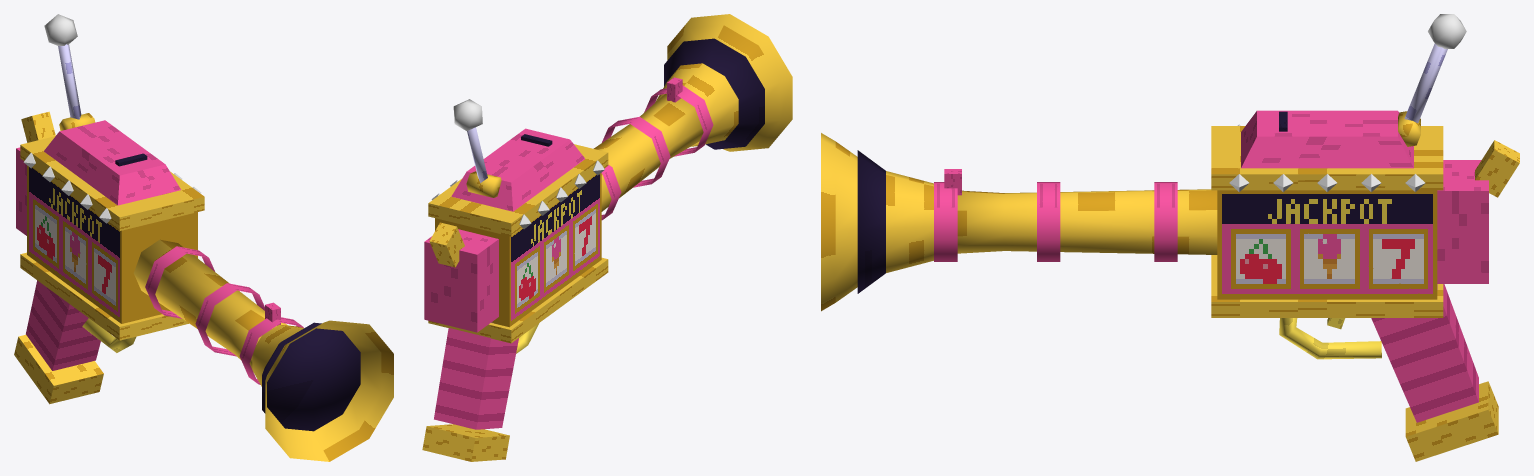
File: Jackpot Blaster.fbx
3 renders of one model, left to right at view 1: azimuth 30°, elevation 25°; view 2: azimuth 150°, elevation 25°; view 3: azimuth 270°, elevation 25°, orthographic. The views are drawn at different scales.
Parts seen in each view (by area): view 1: Jackpot Blaster body, Jackpot Blaster bell, Jackpot Blaster bell dark, Jackpot Blaster top dome, Jackpot Blaster barrel, Jackpot Blaster trim 0.068, Jackpot Blaster grip, Jackpot Blaster grip cap, Jackpot Blaster trim -0.028, Jackpot Blaster barrel ring -0.17, Jackpot Blaster barrel ring -0.09, Jackpot Blaster barrel ring -0.24 (+5 smaller); view 2: Jackpot Blaster body, Jackpot Blaster bell, Jackpot Blaster grip, Jackpot Blaster rear block, Jackpot Blaster top dome, Jackpot Blaster barrel, Jackpot Blaster bell dark, Jackpot Blaster trim 0.068, Jackpot Blaster grip cap, Jackpot Blaster trim -0.028, Jackpot Blaster barrel ring -0.17, Jackpot Blaster hammer (+5 smaller); view 3: Jackpot Blaster body, Jackpot Blaster barrel, Jackpot Blaster bell, Jackpot Blaster top dome, Jackpot Blaster grip, Jackpot Blaster trim 0.068, Jackpot Blaster rear block, Jackpot Blaster trim -0.028, Jackpot Blaster grip cap, Jackpot Blaster bell dark, Jackpot Blaster guard, Jackpot Blaster barrel ring -0.09 (+5 smaller).
Boxes of the visible parts, bbox=[...] form: Jackpot Blaster body: bbox=[27, 165, 197, 323]; Jackpot Blaster bell: bbox=[252, 320, 393, 461]; Jackpot Blaster bell dark: bbox=[262, 322, 360, 431]; Jackpot Blaster top dome: bbox=[44, 120, 180, 205]; Jackpot Blaster barrel: bbox=[133, 239, 288, 368]; Jackpot Blaster trim 0.068: bbox=[20, 136, 204, 230]; Jackpot Blaster grip: bbox=[26, 280, 100, 370]; Jackpot Blaster grip cap: bbox=[14, 334, 103, 404]; Jackpot Blaster trim -0.028: bbox=[20, 252, 188, 340]; Jackpot Blaster barrel ring -0.17: bbox=[195, 283, 264, 356]; Jackpot Blaster barrel ring -0.09: bbox=[145, 246, 214, 318]; Jackpot Blaster barrel ring -0.24: bbox=[239, 317, 303, 384]; Jackpot Blaster body: bbox=[435, 173, 601, 327]; Jackpot Blaster bell: bbox=[655, 14, 792, 151]; Jackpot Blaster grip: bbox=[434, 322, 518, 429]; Jackpot Blaster rear block: bbox=[424, 229, 498, 332]; Jackpot Blaster top dome: bbox=[451, 128, 584, 211]; Jackpot Blaster barrel: bbox=[593, 93, 703, 211]; Jackpot Blaster bell dark: bbox=[664, 38, 764, 149]; Jackpot Blaster trim 0.068: bbox=[428, 144, 608, 236]; Jackpot Blaster grip cap: bbox=[422, 424, 509, 461]; Jackpot Blaster trim -0.028: bbox=[428, 257, 608, 343]; Jackpot Blaster barrel ring -0.17: bbox=[602, 116, 670, 187]; Jackpot Blaster hammer: bbox=[429, 222, 464, 267]; Jackpot Blaster body: bbox=[1217, 190, 1437, 299]; Jackpot Blaster barrel: bbox=[957, 189, 1217, 254]; Jackpot Blaster bell: bbox=[821, 133, 933, 311]; Jackpot Blaster top dome: bbox=[1241, 110, 1413, 168]; Jackpot Blaster grip: bbox=[1371, 284, 1478, 422]; Jackpot Blaster trim 0.068: bbox=[1211, 126, 1443, 190]; Jackpot Blaster rear block: bbox=[1437, 160, 1488, 283]; Jackpot Blaster trim -0.028: bbox=[1211, 255, 1443, 317]; Jackpot Blaster grip cap: bbox=[1405, 381, 1498, 461]; Jackpot Blaster bell dark: bbox=[857, 150, 885, 293]; Jackpot Blaster guard: bbox=[1279, 318, 1381, 359]; Jackpot Blaster barrel ring -0.09: bbox=[1154, 182, 1177, 261].
Size of the model in its own units: 0.1179 by 0.3261 by 0.4762.
Materials: 11 (7 with a texture image).
